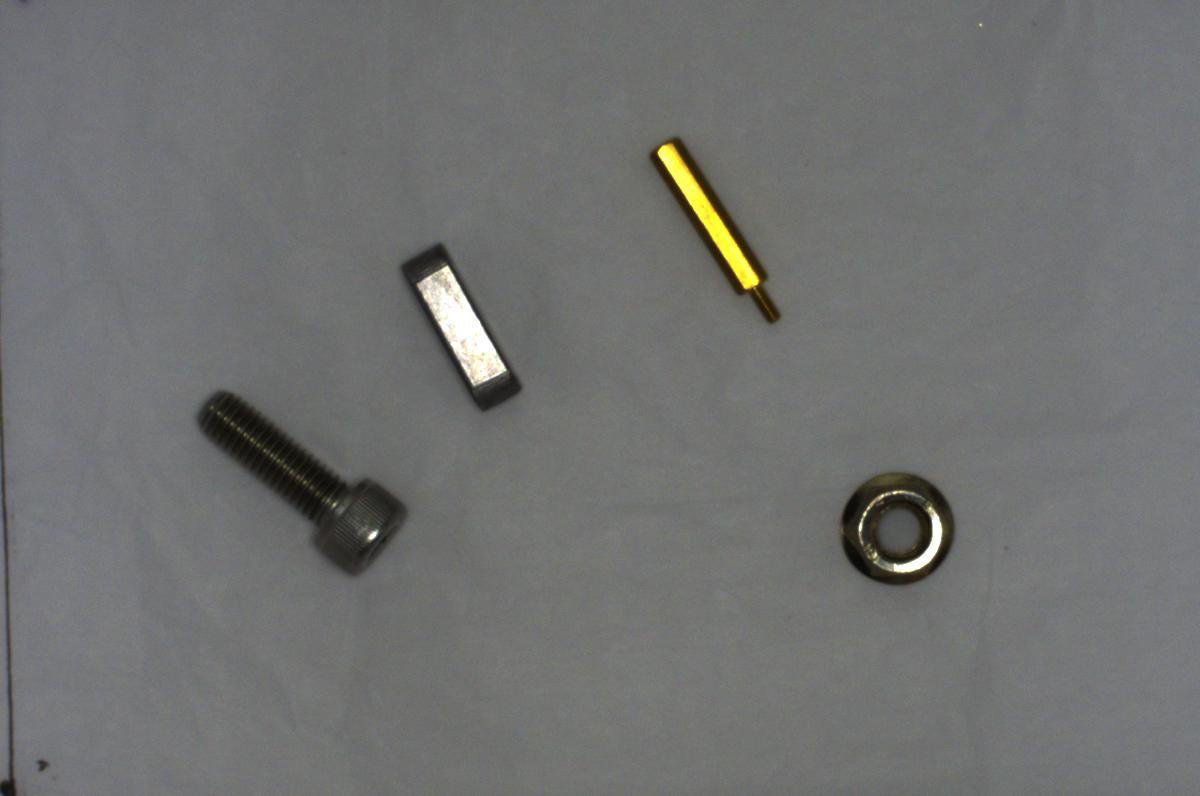Flange nut: (828, 459, 966, 595)
Hexagon pillar: (648, 132, 782, 333)
Hexagon screw: (184, 386, 410, 578)
Keybar: (398, 235, 520, 416)
